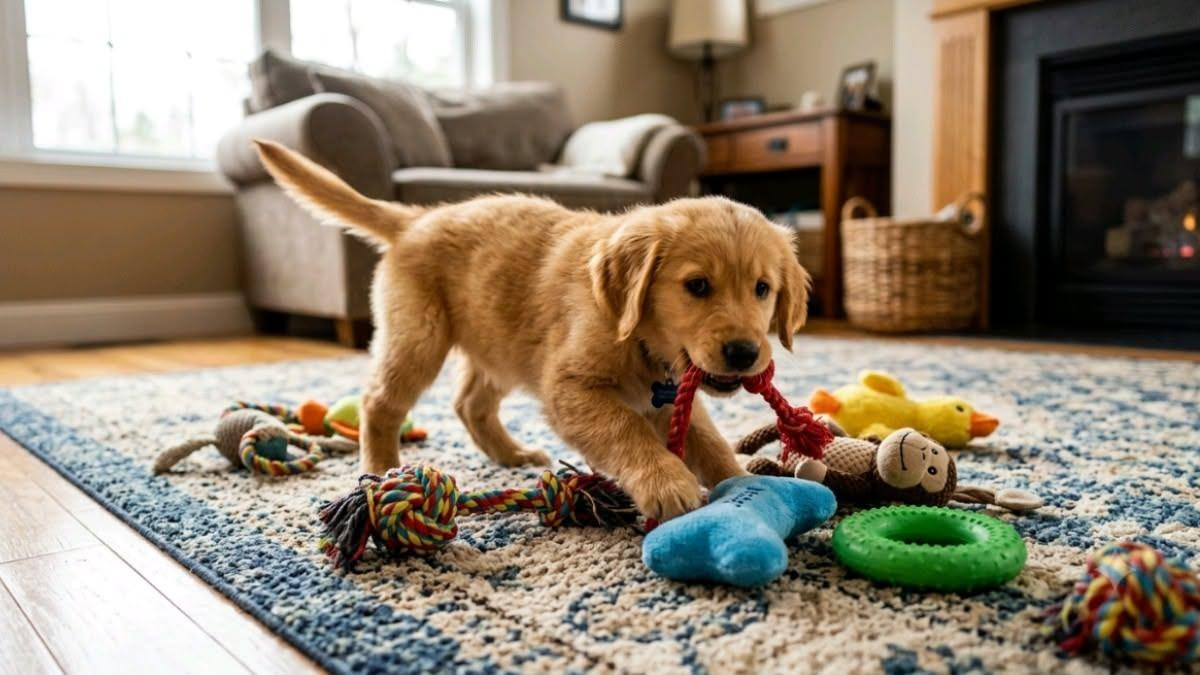puppy-dog: (250, 138, 812, 526)
